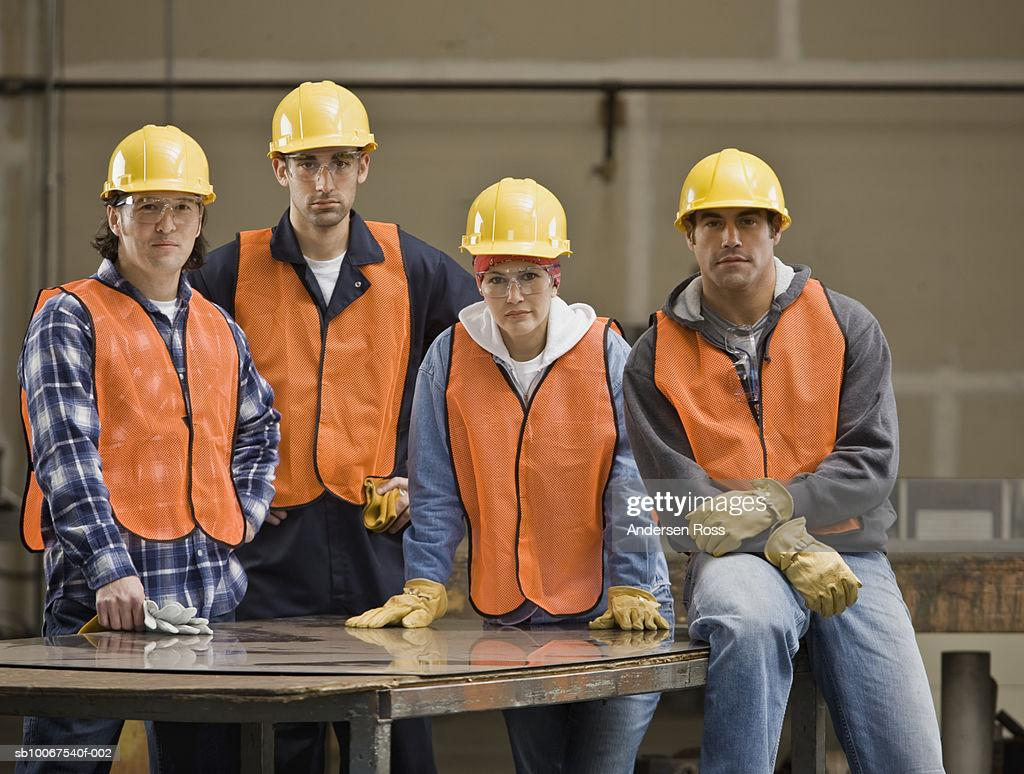hardhat: (460, 177, 579, 266), (675, 148, 797, 234), (100, 124, 218, 207), (267, 79, 379, 157)
worker: (621, 152, 944, 770), (356, 176, 668, 632), (23, 123, 290, 634)
